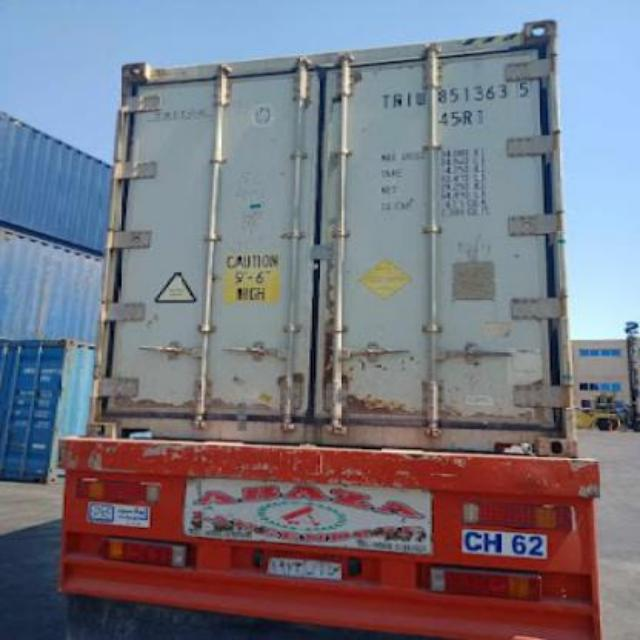1: (460, 86, 470, 100)
3: (472, 86, 484, 102), (498, 84, 510, 96)
5: (448, 86, 462, 104), (518, 79, 530, 97)
6: (484, 83, 498, 101)
8: (436, 87, 449, 103)
I: (402, 92, 416, 108)
R: (392, 93, 406, 111)
T: (380, 94, 392, 110)
U: (414, 90, 430, 108)
